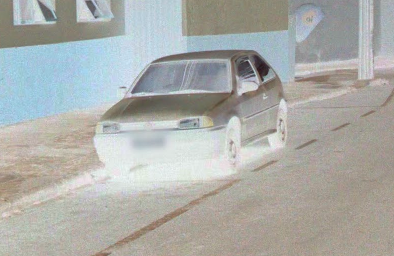car: (92, 46, 291, 180)
